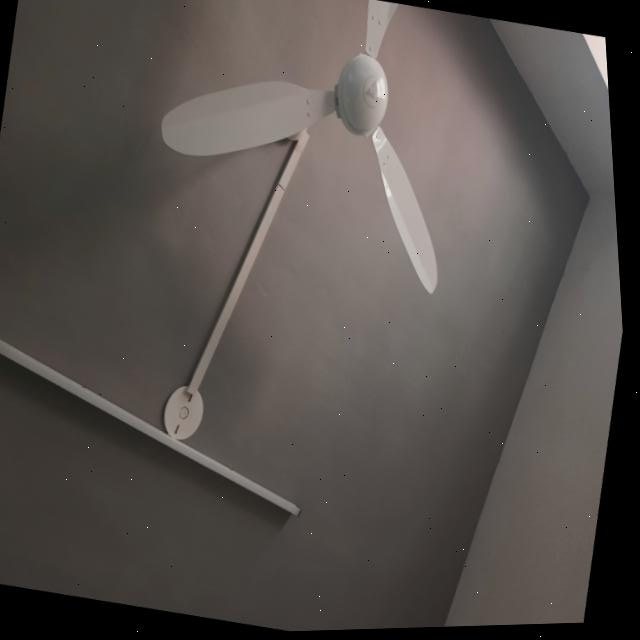fluorescent tube: (0, 321, 336, 535)
